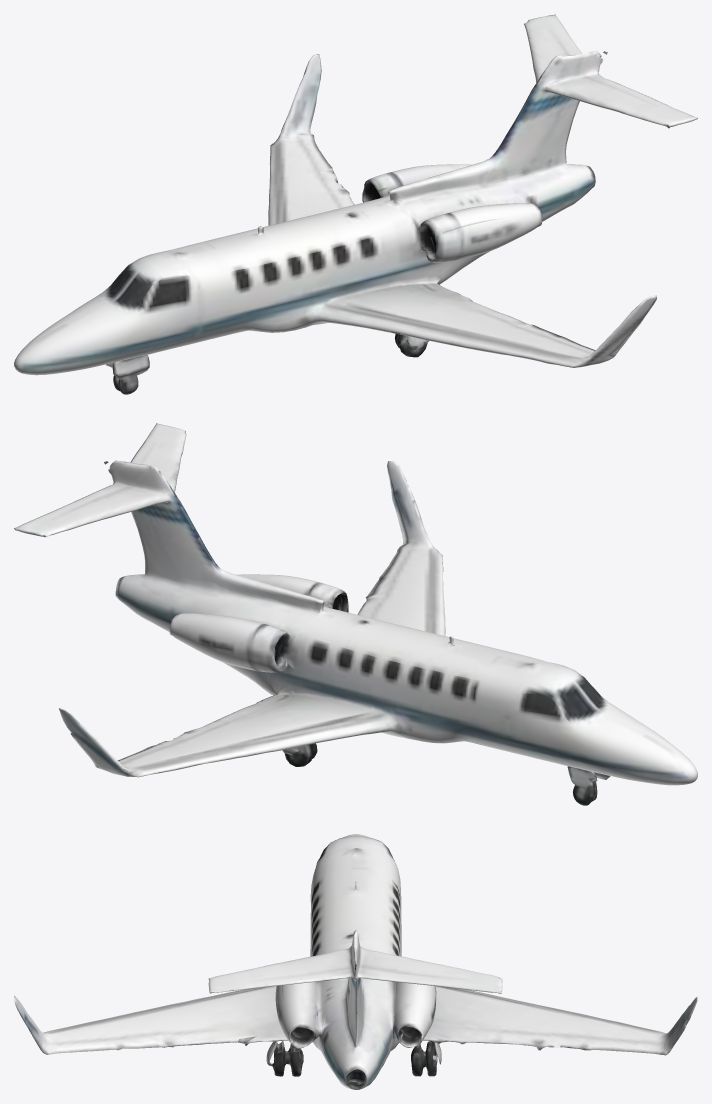
The model's file is citation2.glb.
The picture shows the model from 3 angles, top to bottom: view 1: azimuth 30°, elevation 25°; view 2: azimuth 150°, elevation 25°; view 3: azimuth 270°, elevation 25°; orthographic projection. The views are drawn at different scales.
Parts seen in each view (by area): view 1: Object_3; view 2: Object_3; view 3: Object_3.
Boxes of the visible parts, box(x1,y1,x2,y2) form: Object_3: box(14, 14, 697, 394); Object_3: box(14, 423, 697, 805); Object_3: box(14, 834, 697, 1089).
Size of the model in its own units: 15.8 by 5.73 by 14.92.
Materials: 1 (1 with a texture image).
